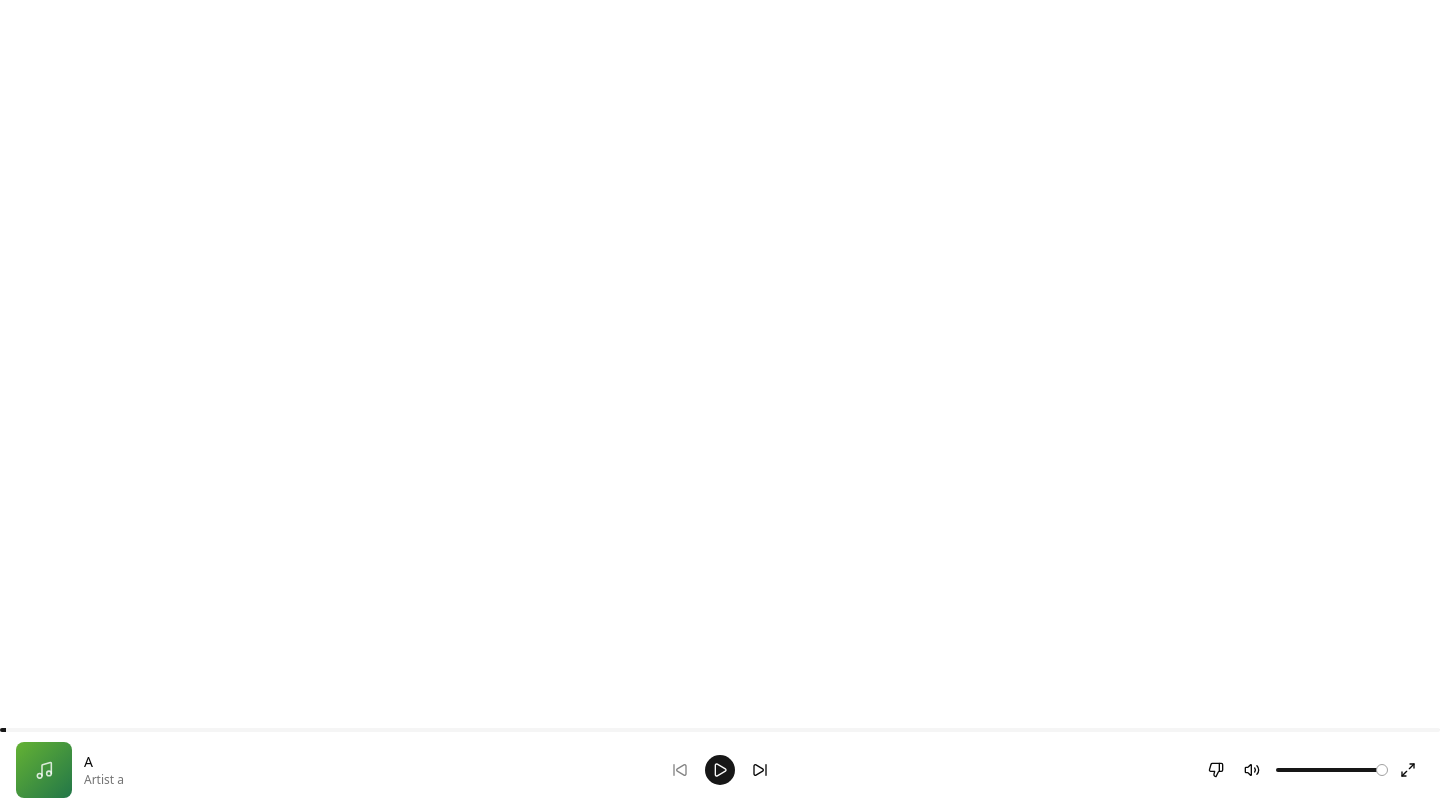
it: PlayerTabs › opens on Reason with Dislikes and Blocked artists disabled while empty
Click the button named "Expand player": click(1408, 770) [1392,754,1424,786]
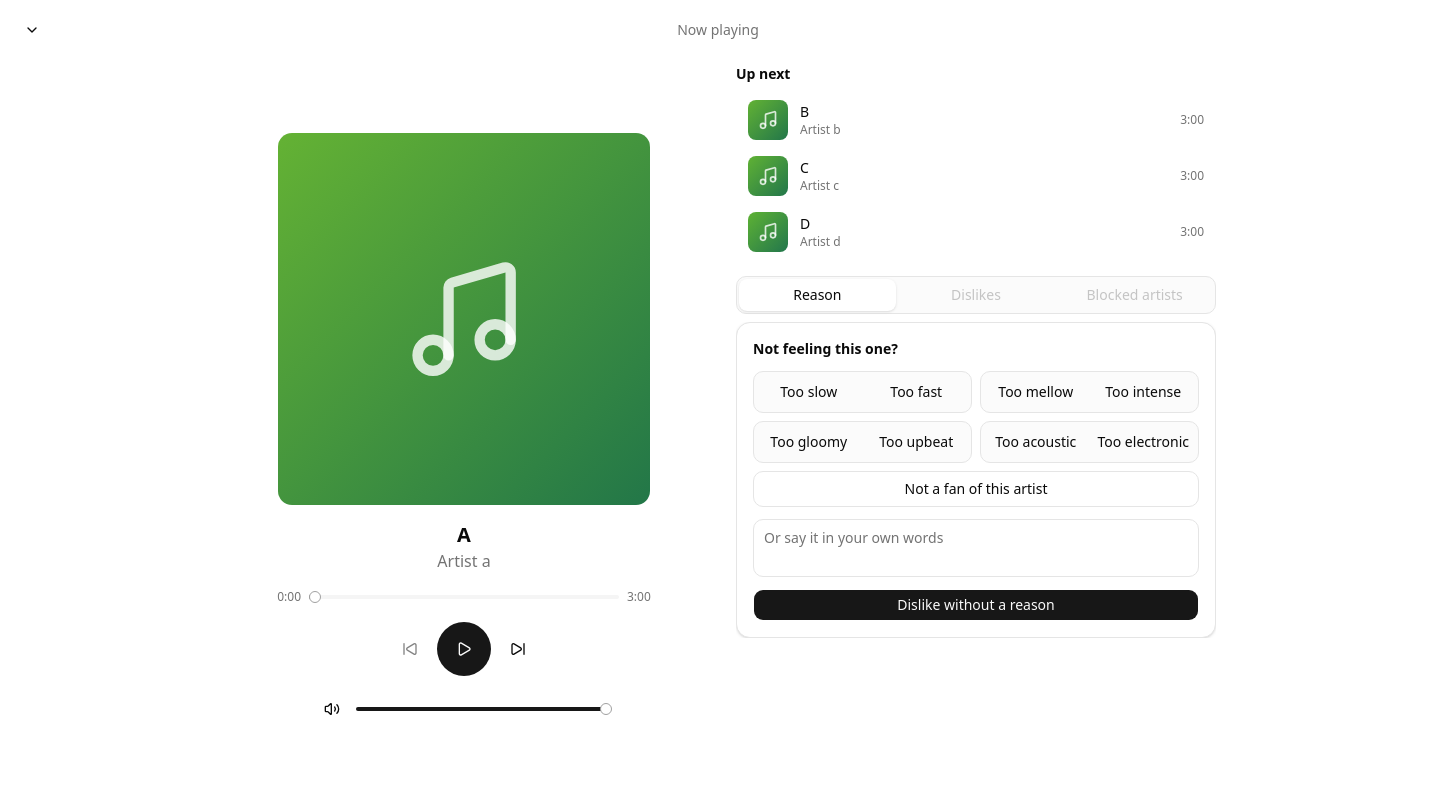
Expected: the tab "Dislikes" is disabled, [898,279,1054,311]
Expected: the tab "Blocked artists" is disabled, [1056,279,1213,311]
